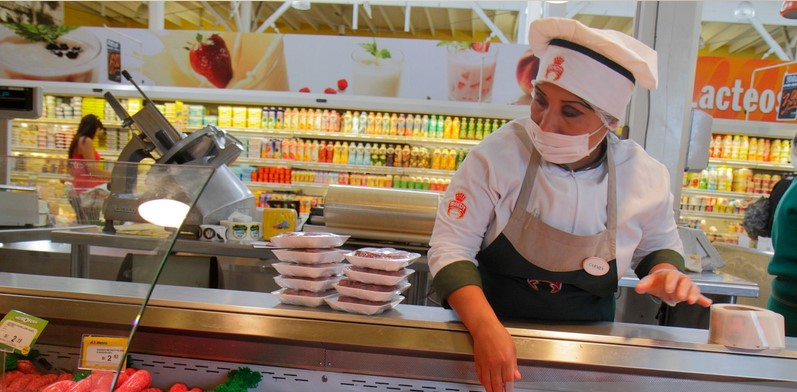face_no_mask: (80, 111, 103, 139)
face_with_mask: (520, 40, 637, 170)
